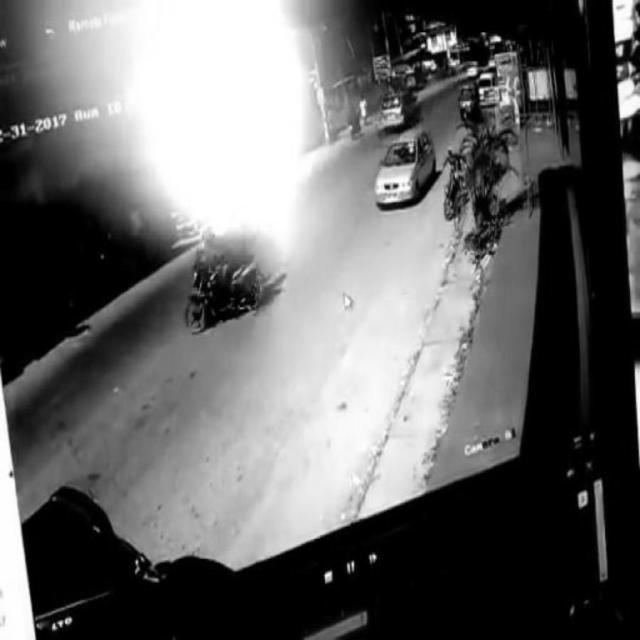vehicle: (190, 234, 268, 322), (374, 124, 438, 212), (377, 89, 422, 134)
